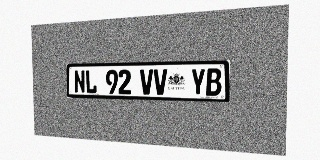2: (118, 69, 131, 94)
9: (106, 70, 118, 94)
B: (206, 68, 221, 96)
L: (85, 70, 97, 93)
N: (74, 70, 85, 93)
V: (140, 69, 153, 95), (154, 69, 167, 95)
Y: (191, 68, 205, 96)
